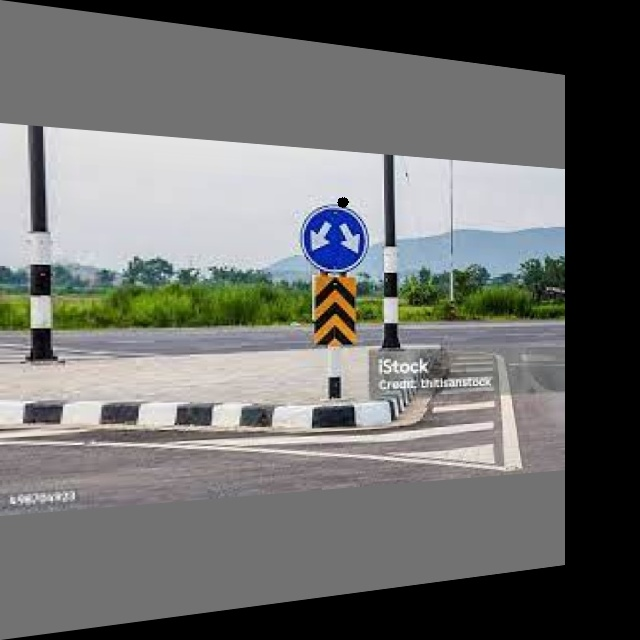Pass_Either_Side: (298, 199, 371, 274)
